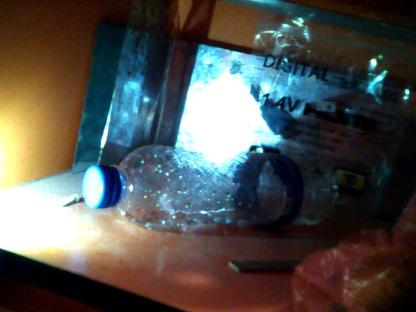Plastic Bottle: (72, 145, 344, 237)
